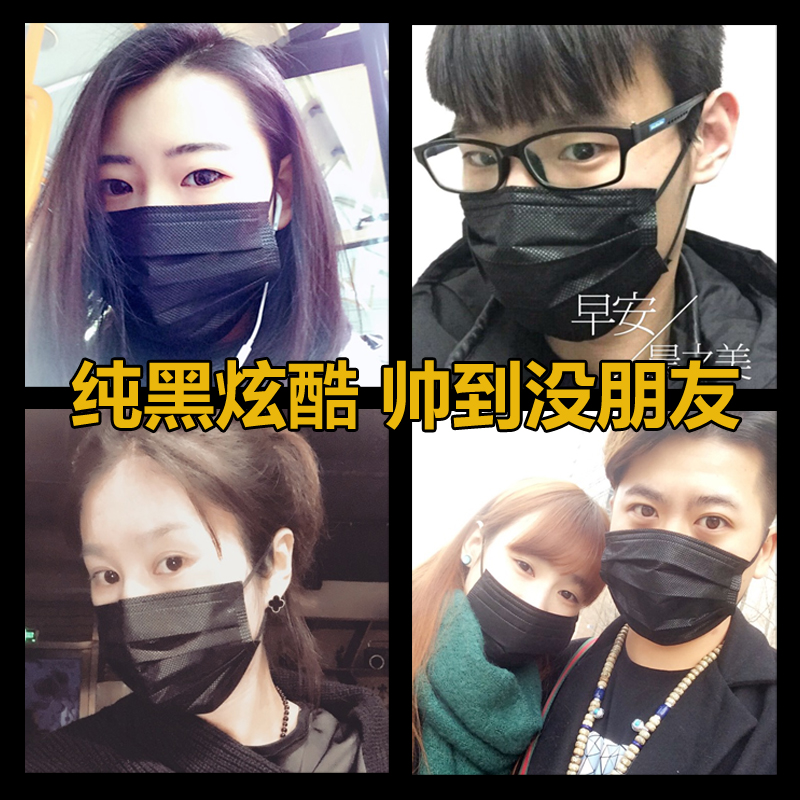face_mask: (456, 34, 682, 324), (83, 66, 273, 348), (83, 463, 251, 701), (605, 437, 762, 636), (471, 514, 593, 656)
